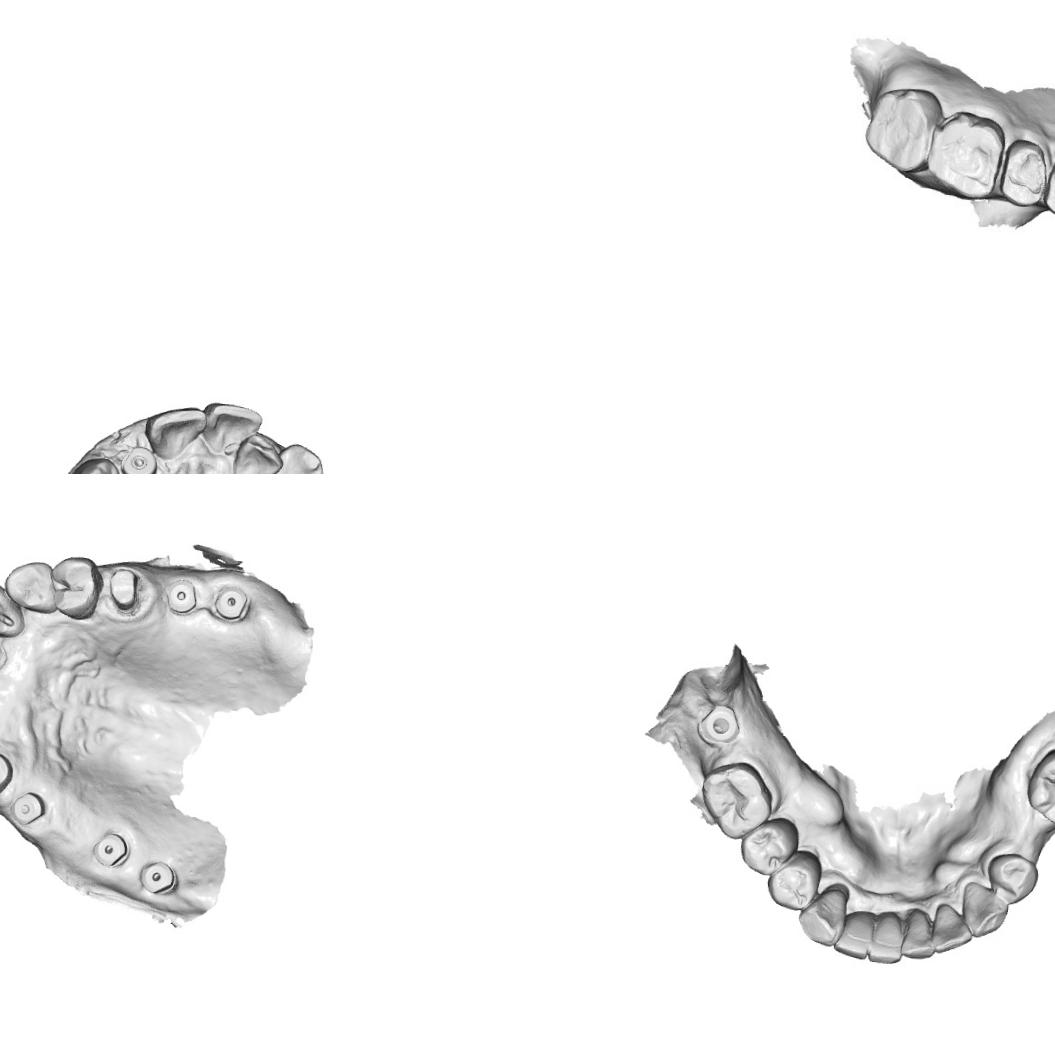canine: (1, 557, 59, 616), (796, 887, 848, 948), (960, 879, 1010, 940), (270, 439, 326, 474), (65, 450, 123, 474)
crown: (104, 564, 144, 614)
implant: (696, 700, 743, 746), (164, 574, 201, 618), (90, 829, 130, 869), (137, 858, 178, 897), (212, 582, 250, 622), (9, 790, 46, 827), (120, 443, 156, 474)
incisor: (142, 403, 206, 462), (198, 401, 260, 460), (229, 429, 284, 474), (930, 902, 974, 955), (832, 909, 872, 960), (865, 912, 904, 964), (900, 907, 936, 960), (0, 578, 27, 639)
molar: (698, 758, 774, 841), (924, 114, 999, 196), (866, 85, 936, 167), (1021, 744, 1055, 827)
premolar: (45, 552, 105, 621), (737, 814, 800, 877), (764, 850, 822, 912), (997, 141, 1050, 202), (984, 850, 1040, 906), (1043, 156, 1055, 215)
